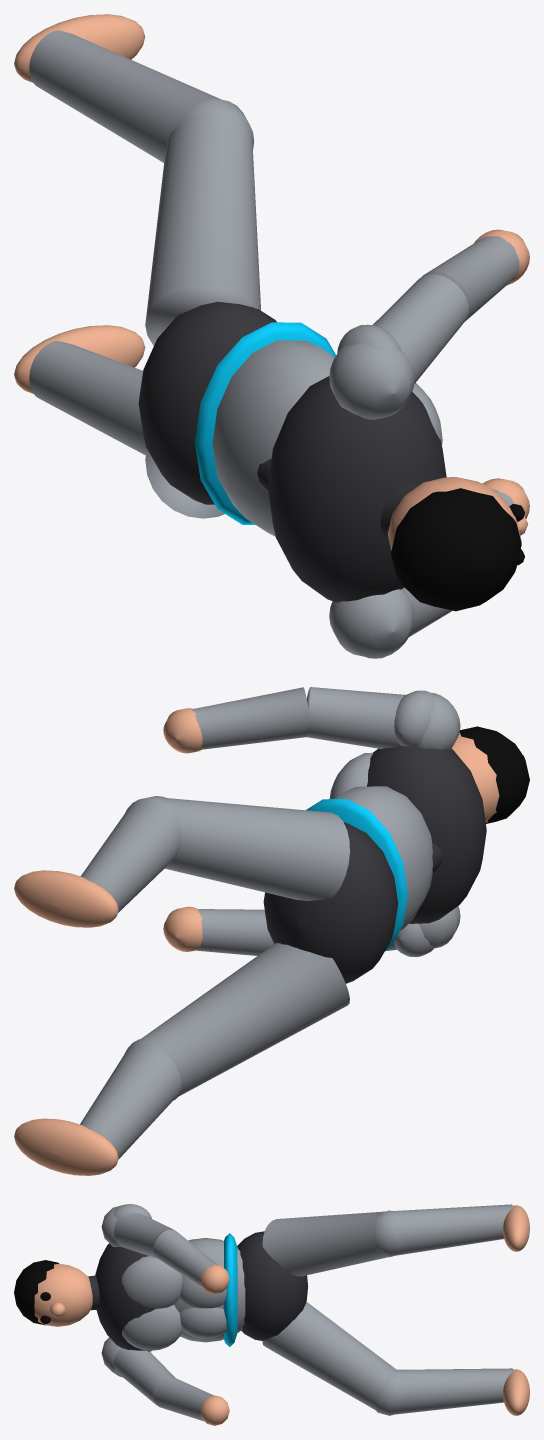
The model's file is rider_robot.obj.
The picture shows the model from 3 angles, top to bottom: view 1: azimuth 30°, elevation 25°; view 2: azimuth 150°, elevation 25°; view 3: azimuth 270°, elevation 25°; orthographic projection. The views are drawn at different scales.
Size of the model in its own units: 66.5 by 73.6 by 171.
